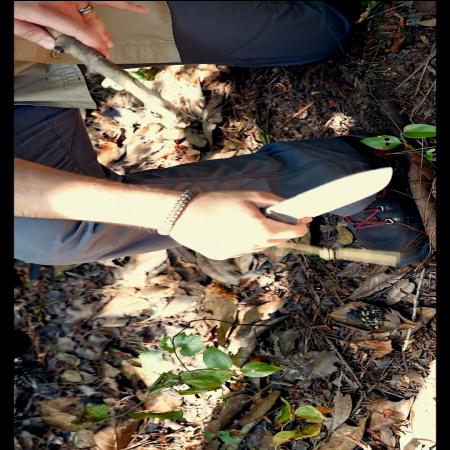long weapon: (230, 160, 401, 256)
